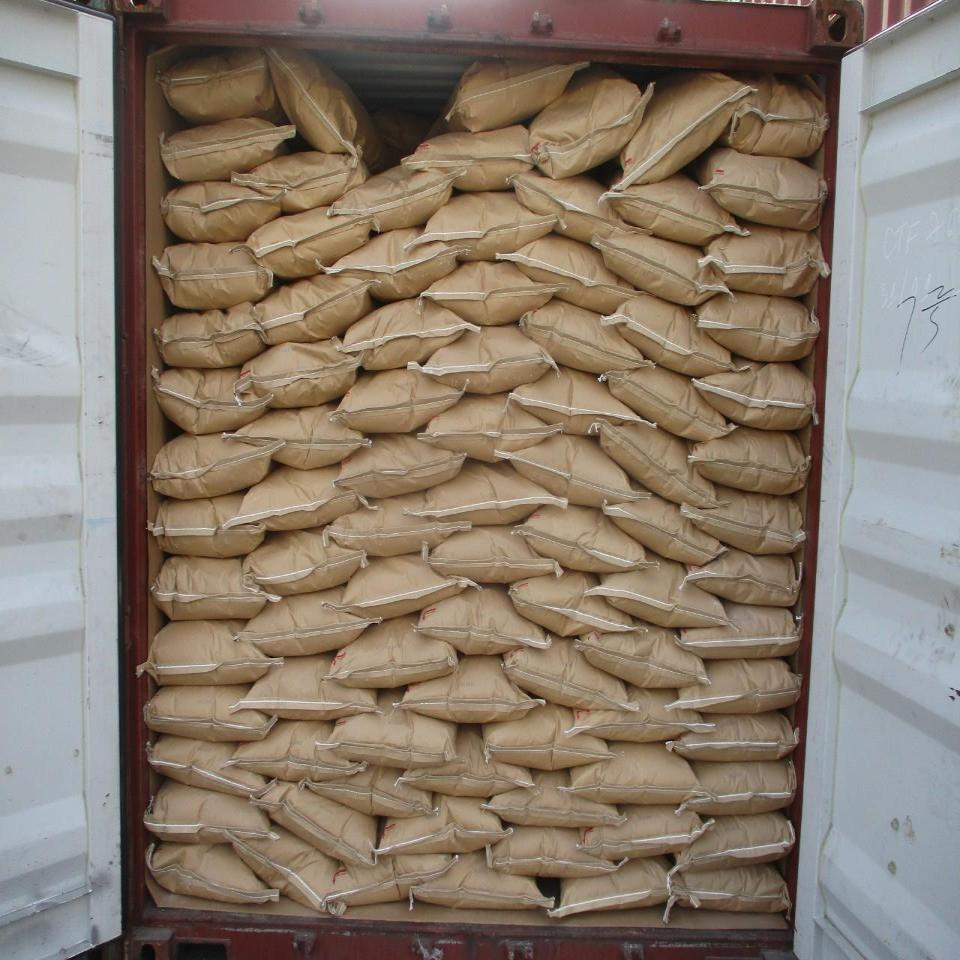bag: (262, 45, 393, 172), (619, 68, 755, 186), (501, 235, 664, 309), (530, 71, 645, 175), (255, 781, 382, 866), (444, 57, 589, 131), (509, 428, 644, 507), (332, 686, 461, 767), (513, 365, 659, 434), (330, 610, 456, 689), (415, 190, 555, 261), (607, 293, 731, 373), (331, 227, 465, 301), (237, 584, 376, 655), (160, 47, 289, 123), (239, 650, 379, 720), (401, 657, 544, 725), (419, 324, 554, 396), (330, 490, 472, 558), (345, 298, 479, 370), (507, 635, 629, 714), (599, 422, 715, 505), (404, 722, 530, 798), (425, 391, 561, 461), (515, 169, 646, 240), (151, 428, 281, 499), (426, 461, 567, 526), (520, 302, 647, 374), (140, 620, 278, 686), (568, 739, 706, 805), (575, 619, 706, 688), (518, 503, 647, 573), (419, 586, 546, 657), (598, 562, 730, 630), (232, 828, 342, 909), (609, 176, 740, 244), (594, 236, 731, 301), (413, 849, 554, 912), (238, 337, 358, 411), (704, 153, 822, 228), (423, 259, 558, 324), (343, 553, 472, 621), (403, 126, 533, 193), (244, 207, 372, 275), (337, 165, 463, 234), (610, 366, 728, 439), (253, 275, 376, 345), (688, 426, 809, 497), (696, 291, 818, 361), (236, 404, 364, 470), (146, 842, 280, 905), (482, 705, 613, 769), (696, 362, 814, 432), (338, 431, 465, 496), (240, 466, 364, 532), (154, 364, 270, 434), (491, 768, 624, 829), (702, 228, 822, 295), (515, 571, 640, 635), (340, 369, 463, 434), (680, 489, 804, 553), (603, 501, 727, 565), (165, 121, 297, 181), (249, 528, 363, 597), (148, 556, 267, 622), (152, 488, 264, 558), (235, 719, 362, 780), (378, 796, 509, 855), (143, 783, 269, 844), (431, 524, 558, 583), (150, 737, 272, 798), (553, 858, 681, 916), (678, 657, 803, 716), (681, 597, 799, 659), (326, 854, 453, 911), (728, 84, 826, 157), (146, 684, 273, 740), (587, 804, 711, 861), (489, 826, 627, 877), (238, 154, 363, 210), (157, 245, 266, 309), (573, 689, 711, 739), (307, 766, 432, 820), (163, 181, 281, 238), (158, 307, 266, 368), (670, 712, 796, 764), (675, 819, 793, 872), (677, 761, 795, 813), (689, 551, 798, 605), (683, 867, 790, 914)
